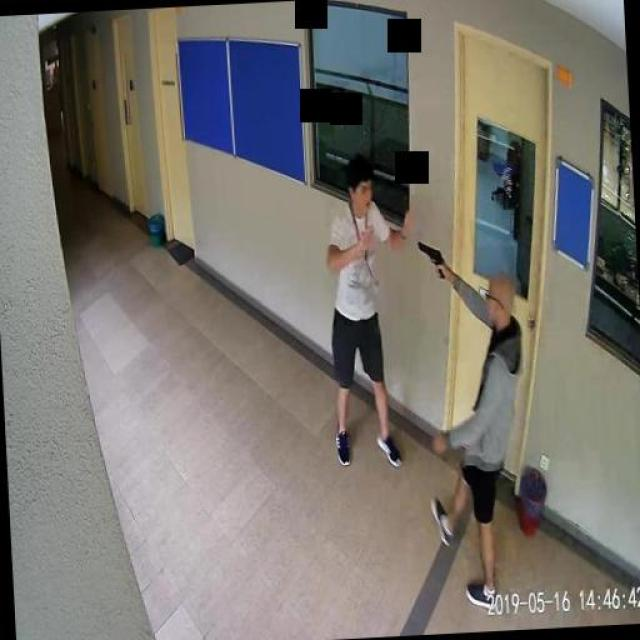gun: (416, 238, 446, 278)
